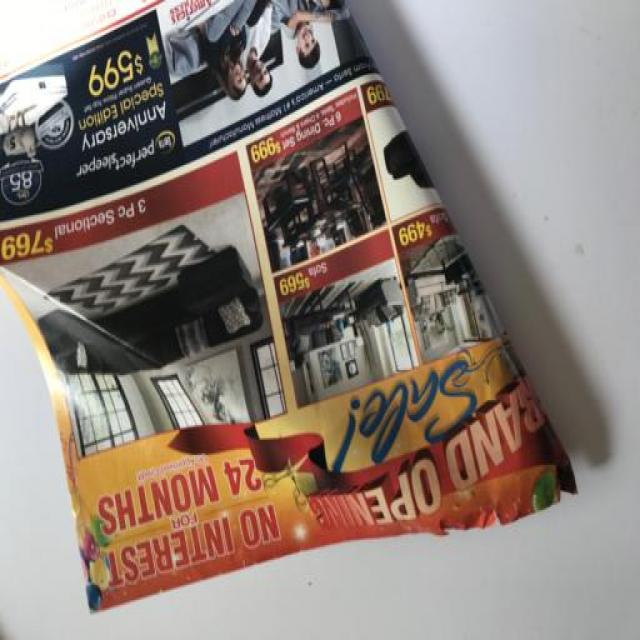paper: (1, 1, 606, 640)
